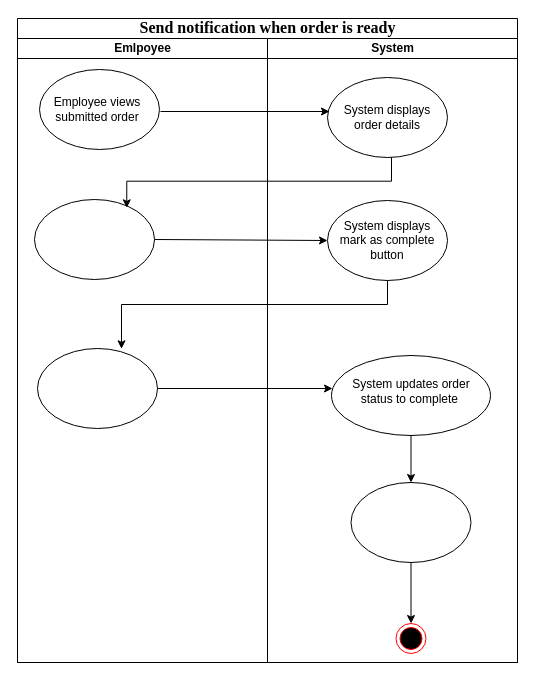
The diagram is 535 pixels wide and 680 high, and some of its shapes have lost their labels. Each missing label, with the box of its shape:
Employee completes order and clicks complete button: (36, 348, 158, 428)
Employee prepares order: (34, 198, 154, 280)
System sends notification to customer order is ready: (350, 482, 471, 562)
